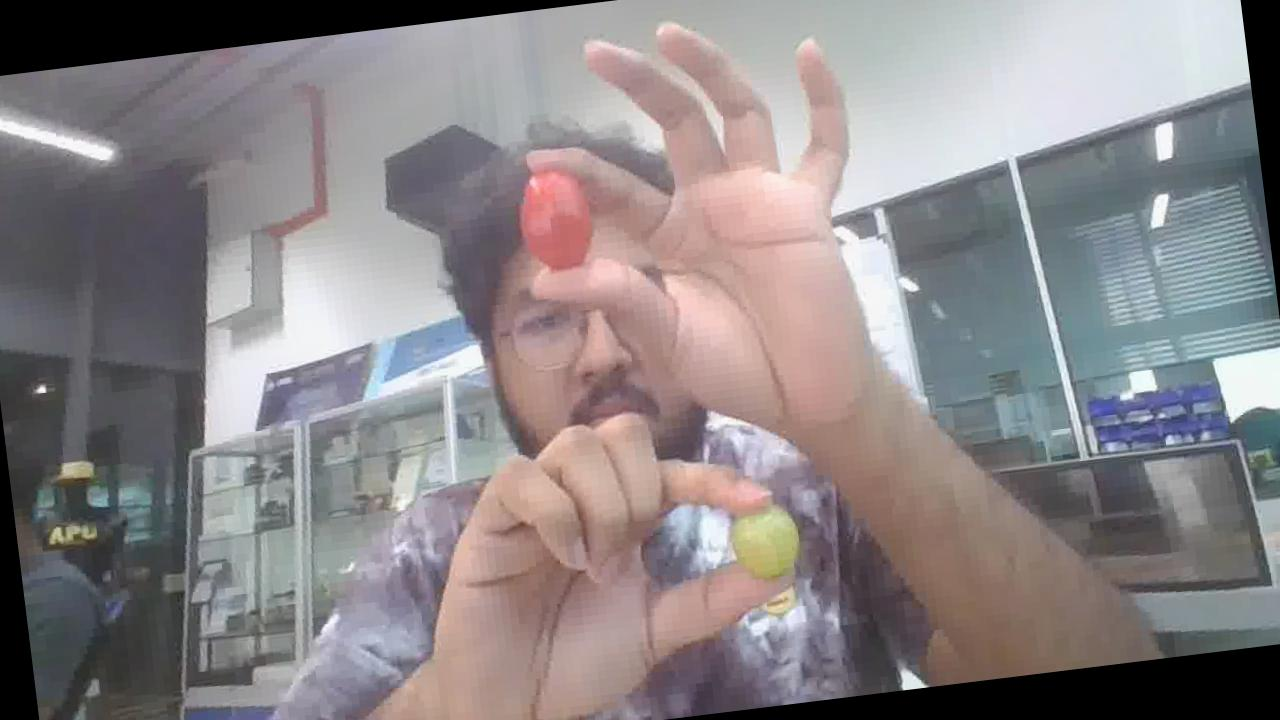green_cherry_tomato: (730, 505, 799, 579)
red_cherry_tomato: (520, 171, 592, 269)
